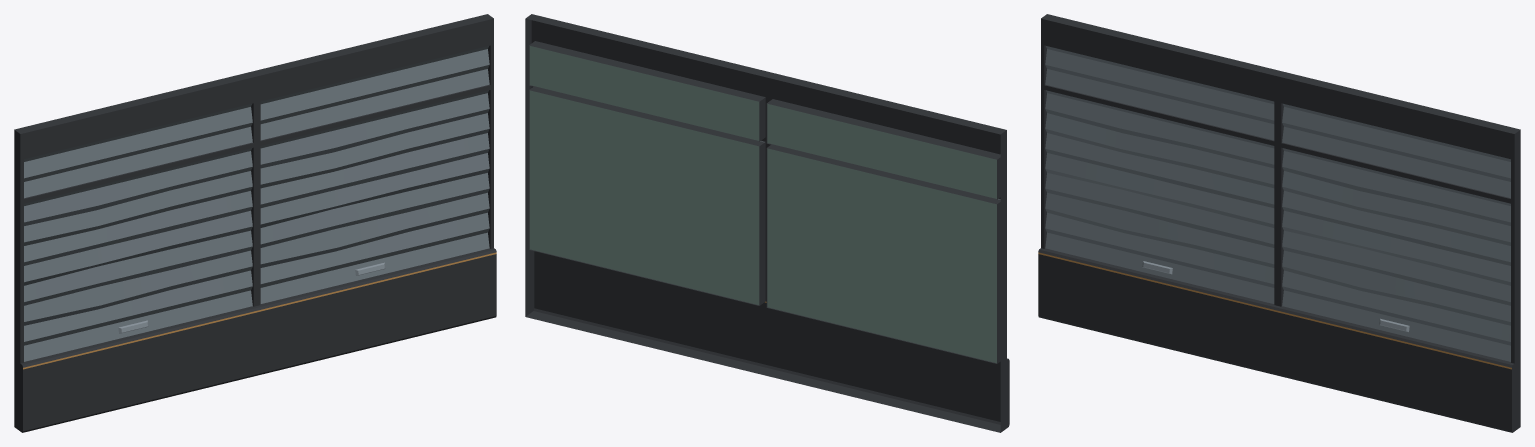
The model's file is Wall_Glass_Ground_01.glb.
3 views of the same model, side by side, from view 1: azimuth 30°, elevation 25°; view 2: azimuth 150°, elevation 25°; view 3: azimuth 330°, elevation 25° (orthographic).
Visible parts, largest first — view 1: SM_Env_Wall_Glass_Ground_Panels_01, SM_Env_Wall_Glass_Ground_01; view 2: SM_Env_Wall_Glass_Ground_Glass_01, SM_Env_Wall_Glass_Ground_01; view 3: SM_Env_Wall_Glass_Ground_Panels_01, SM_Env_Wall_Glass_Ground_01.
Part boxes in pixels (left/top/right/bottom): SM_Env_Wall_Glass_Ground_Panels_01: left=24, top=46, right=489, bottom=361; SM_Env_Wall_Glass_Ground_01: left=14, top=14, right=496, bottom=432; SM_Env_Wall_Glass_Ground_Glass_01: left=529, top=46, right=996, bottom=363; SM_Env_Wall_Glass_Ground_01: left=525, top=14, right=1009, bottom=432; SM_Env_Wall_Glass_Ground_Panels_01: left=1045, top=46, right=1510, bottom=361; SM_Env_Wall_Glass_Ground_01: left=1038, top=14, right=1520, bottom=432.
Size of the model in its own units: 5 by 3 by 0.1636.
2 materials, 1 textured.
